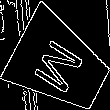M_SE: (30, 32, 90, 97)
